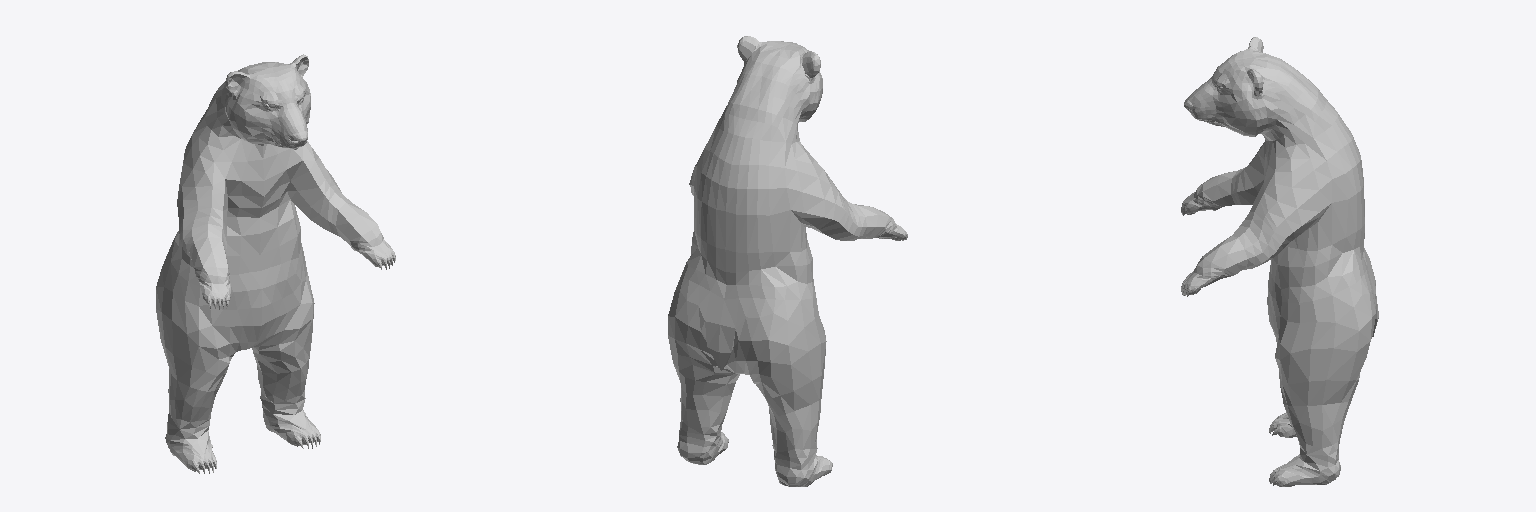
The model's file is BEAR_PND.OBJ.
The picture shows the model from 3 angles: view 1: azimuth 30°, elevation 25°; view 2: azimuth 150°, elevation 25°; view 3: azimuth 270°, elevation 25°; orthographic projection.
Visible parts, largest first — view 1: pand_body; view 2: pand_body; view 3: pand_body.
Part boxes in pixels (left/top/right/bottom): pand_body: left=156, top=54, right=395, bottom=473; pand_body: left=668, top=36, right=907, bottom=486; pand_body: left=1181, top=37, right=1378, bottom=486.
Size of the model in its own units: 0.9584 by 1.95 by 0.8676.